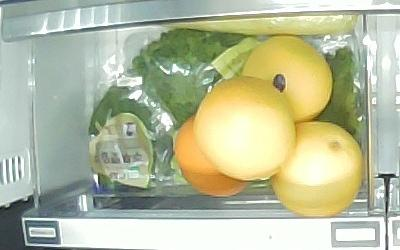grapefruit: (194, 77, 296, 181), (272, 122, 362, 215), (242, 36, 332, 122), (175, 114, 248, 196)
